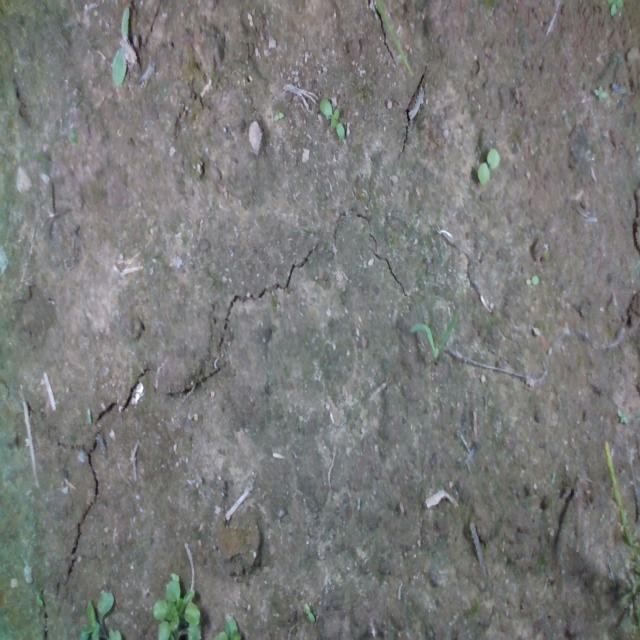weed: (474, 143, 504, 186), (318, 96, 346, 138)
